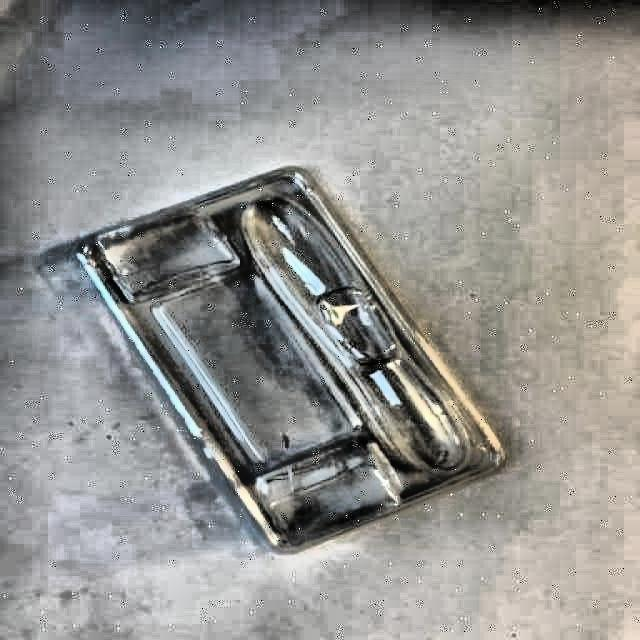plastic: (79, 166, 505, 549)
